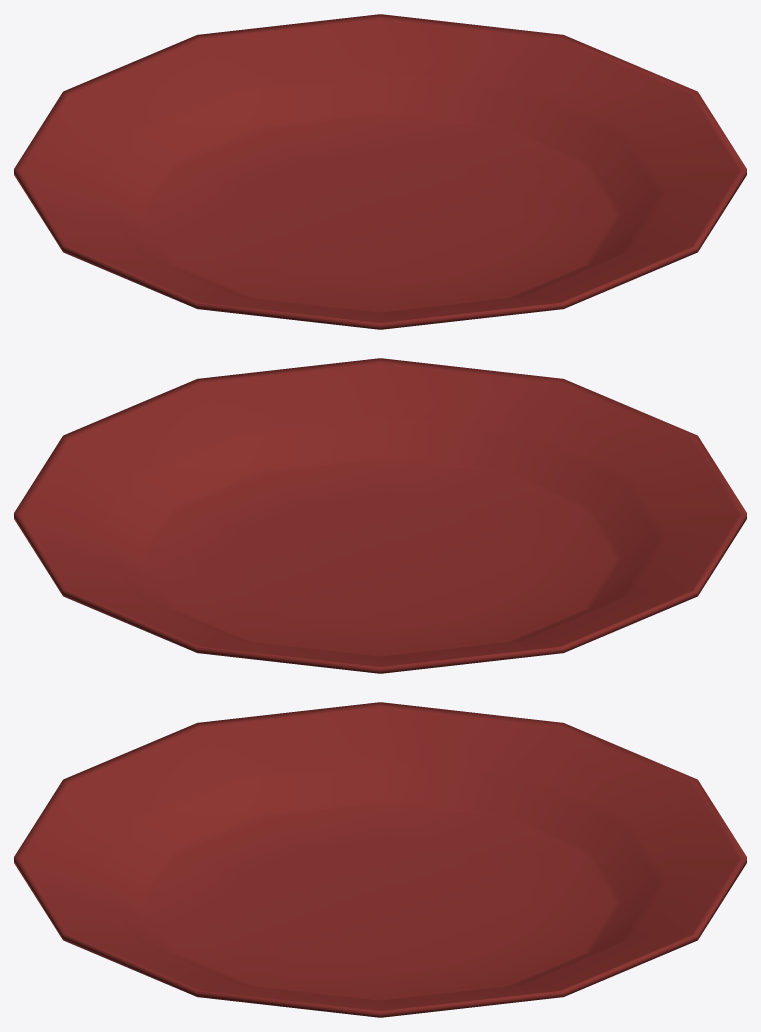
The model's file is red_metal_plate_white_speckles.dae.
3 views of the same model, one above another, from view 1: azimuth 30°, elevation 25°; view 2: azimuth 150°, elevation 25°; view 3: azimuth 270°, elevation 25° (orthographic).
Visible parts, largest first — view 1: Circle_002; view 2: Circle_002; view 3: Circle_002.
Boxes of the visible parts, x1,y1,x2,y2 form: Circle_002: [14, 14, 746, 329]; Circle_002: [14, 358, 746, 673]; Circle_002: [14, 702, 746, 1017].
Size of the model in its own units: 0.2617 by 0.2617 by 0.0226.
